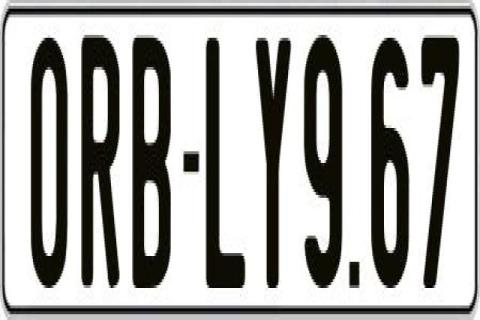0: (368, 32, 412, 282), (422, 38, 462, 306), (304, 27, 346, 280), (29, 29, 67, 288)
B: (131, 32, 172, 291)
L: (205, 29, 248, 279)
R: (80, 29, 123, 297)
Y: (253, 32, 291, 294)
